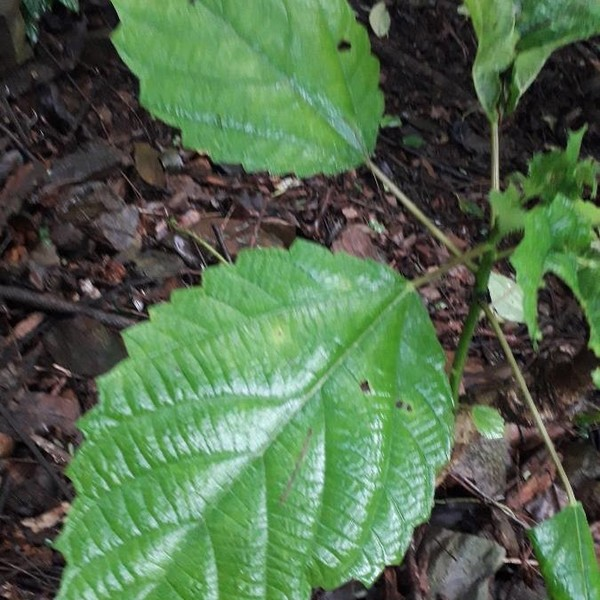obstacle: (73, 217, 446, 581)
